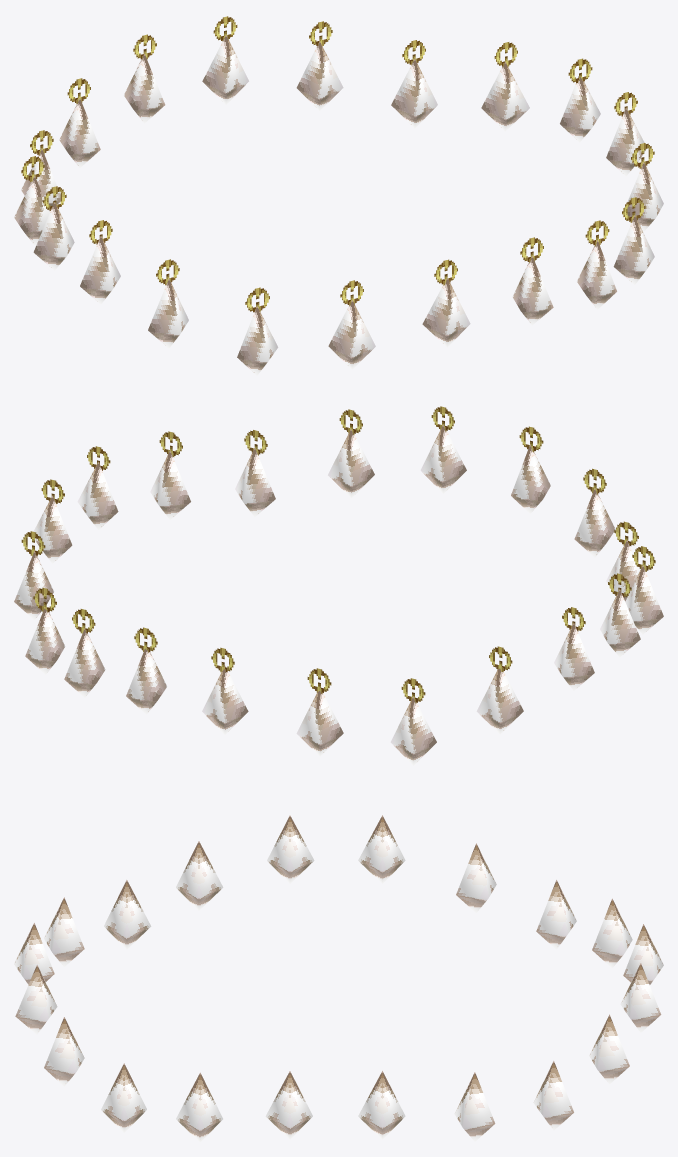
File: osyan2.glb
3 views of the same model, one above another, from view 1: azimuth 30°, elevation 25°; view 2: azimuth 150°, elevation 25°; view 3: azimuth 270°, elevation 25° (orthographic).
Visible parts, largest first — view 1: osyan2; view 2: osyan2; view 3: osyan2.
Boxes of the visible parts, <box> form: osyan2: <box>14,16,663,375</box>; osyan2: <box>14,406,663,765</box>; osyan2: <box>14,815,663,1142</box>.
Size of the model in its own units: 481 by 93 by 478.
2 materials, 2 textured.
